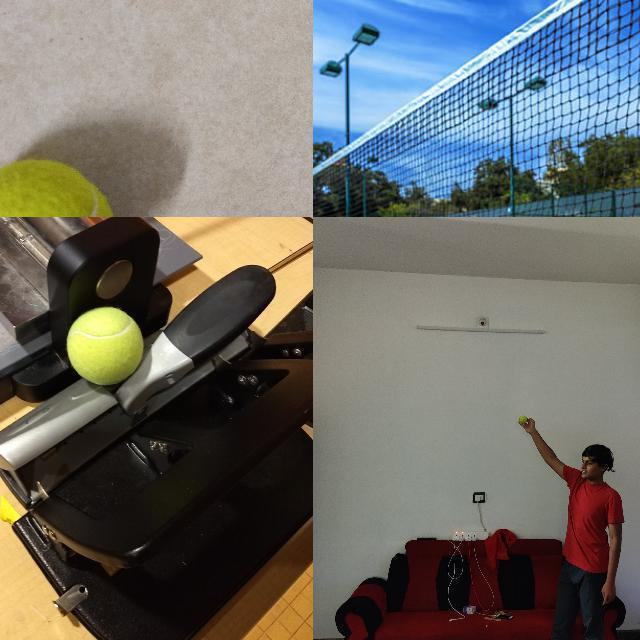tennis-ball: (0, 158, 120, 216), (65, 305, 144, 387), (519, 415, 528, 424)
